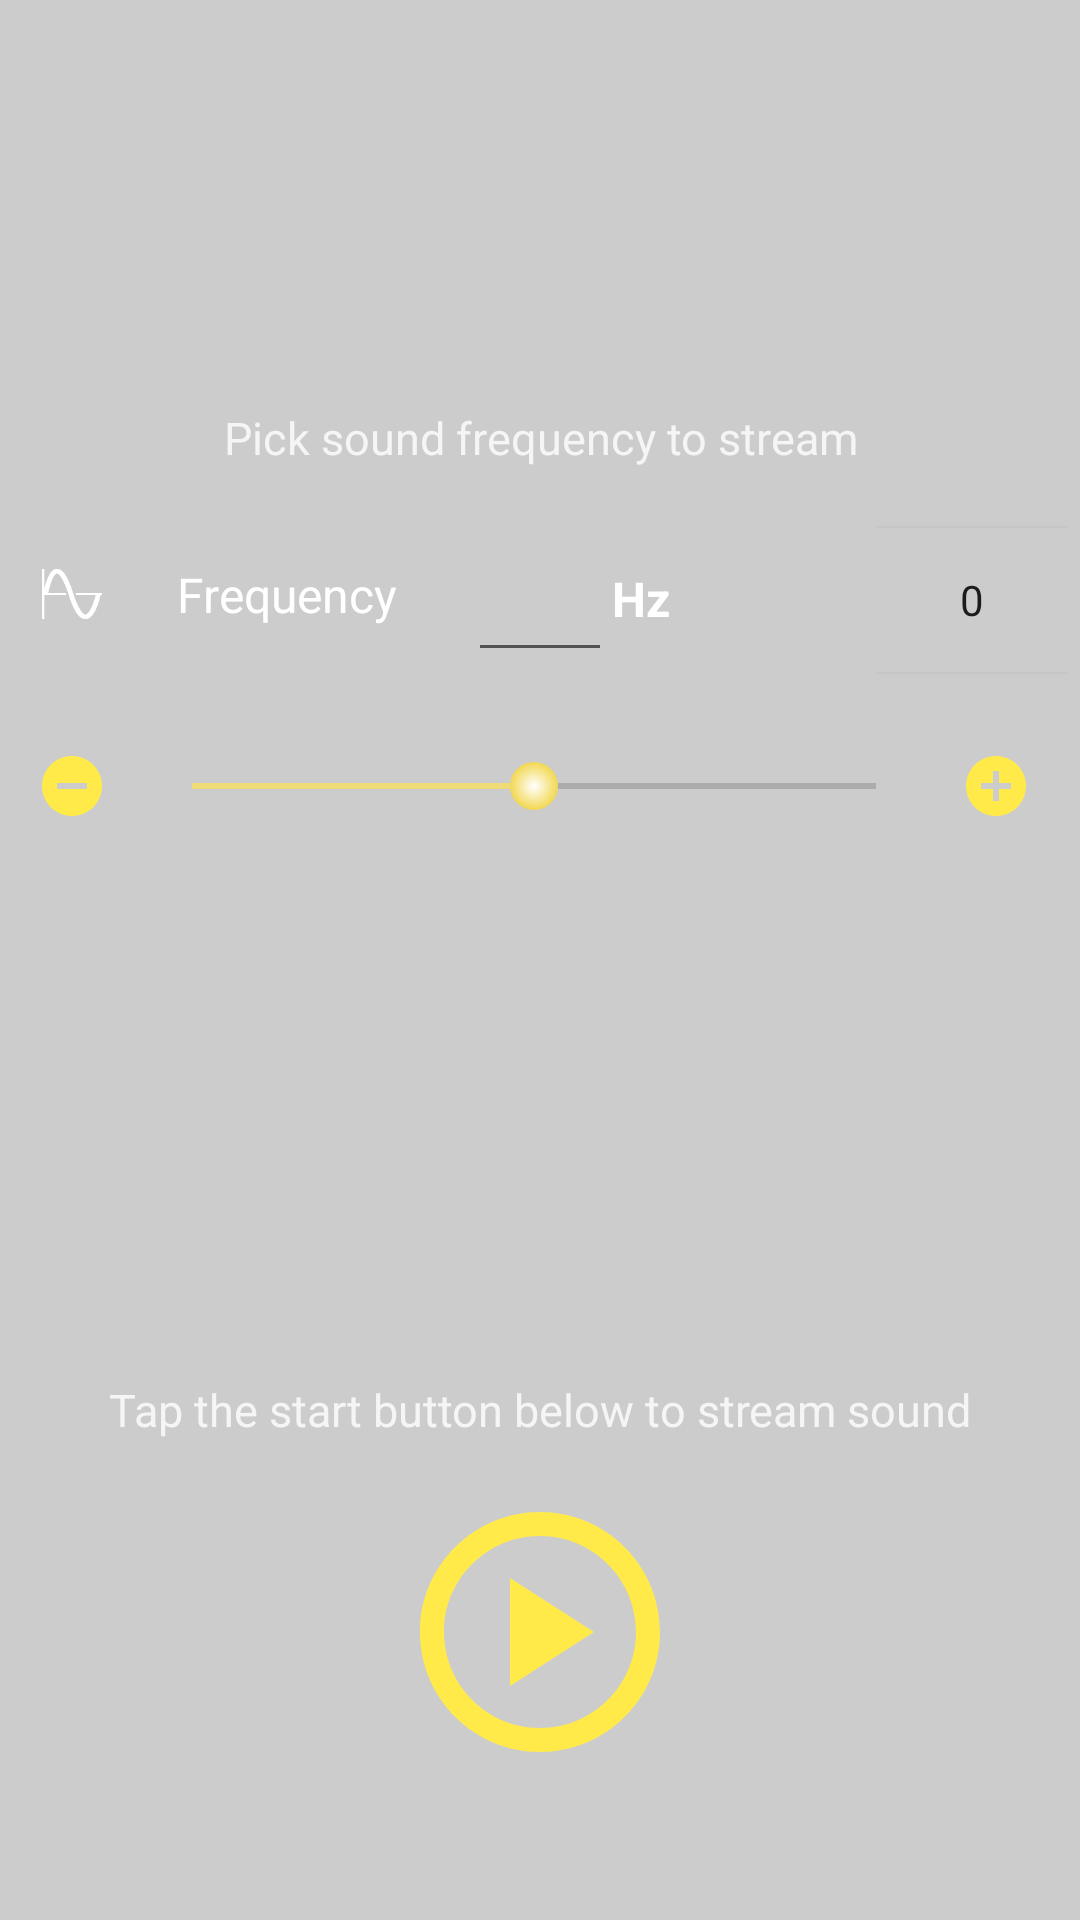

Icon bounding boxes for this 1080*1920 phone screenshot, format (x1,y1,x2,y2):
Increase frequency: (966,756,1026,816)
Play/pause tone: (420,1512,660,1752)
